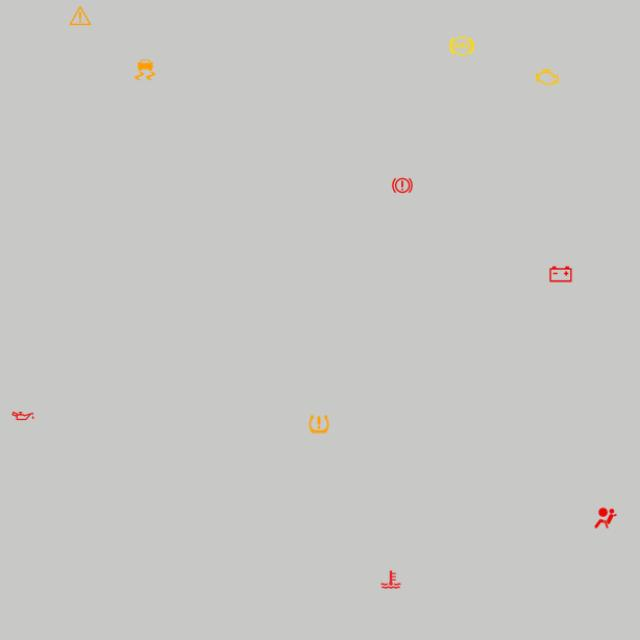Anti Lock Braking System: (448, 32, 476, 59)
Braking System Issue: (389, 172, 416, 199)
Charging System Issue: (548, 260, 574, 288)
Check Engine: (534, 64, 560, 90)
Electronic Stability Problem -ESP-: (132, 56, 158, 84)
Engine Overheating Warning Light: (378, 566, 404, 593)
Low Engine Oil Warning Light: (9, 402, 36, 430)
Low Tire Pressure Warning Light: (306, 410, 332, 438)
Master warning light: (67, 2, 94, 29)
SRS-Airbag: (592, 504, 619, 532)
